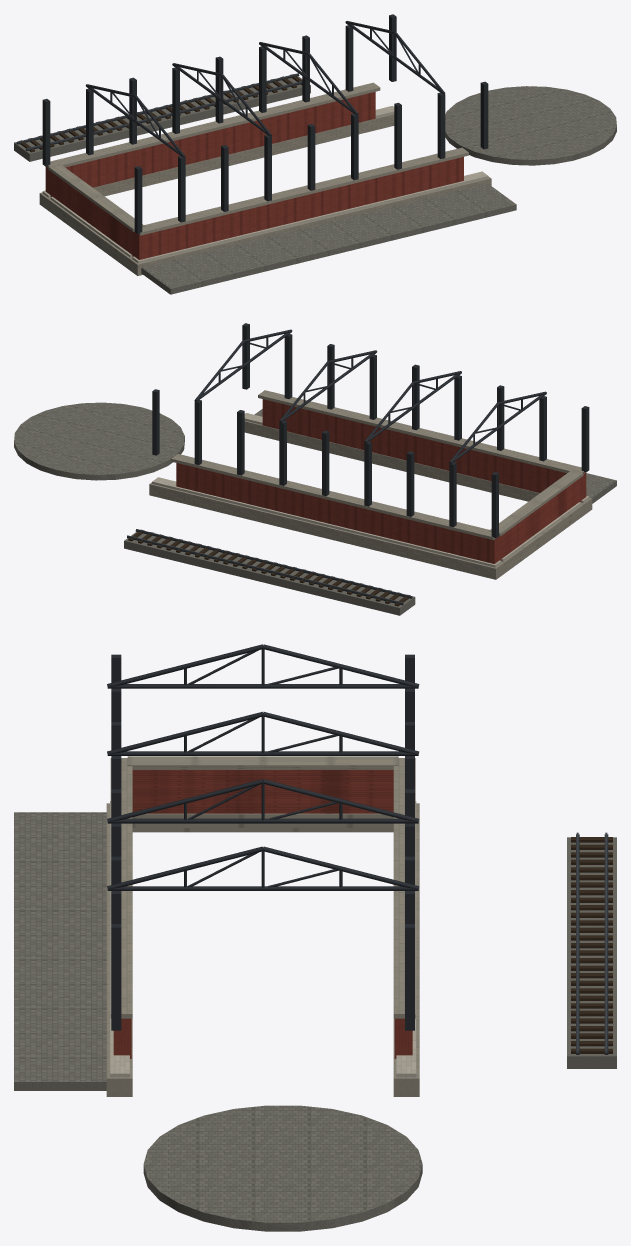
The model's file is fun-3-construction.glb.
3 renders of one model, top to bottom at view 1: azimuth 30°, elevation 25°; view 2: azimuth 150°, elevation 25°; view 3: azimuth 270°, elevation 25°, orthographic. The views are drawn at different scales.
Size of the model in its own units: 48.3 by 11.99 by 30.25.
13 materials, 11 textured.
